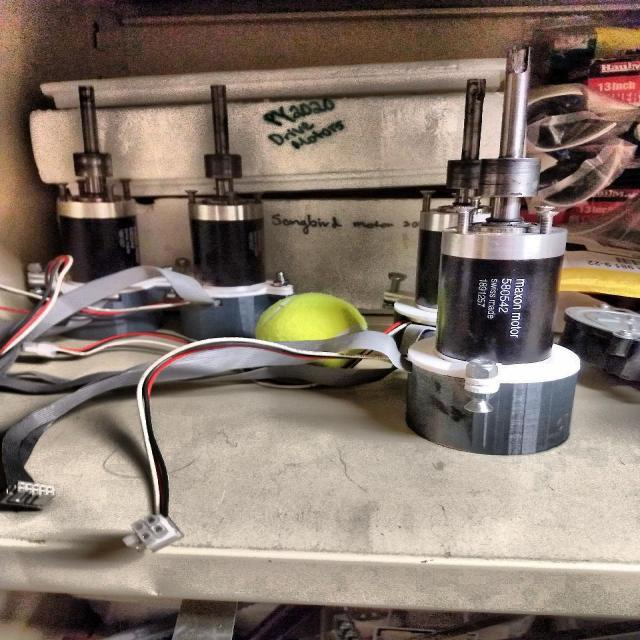tennis-ball: (255, 290, 373, 385)
